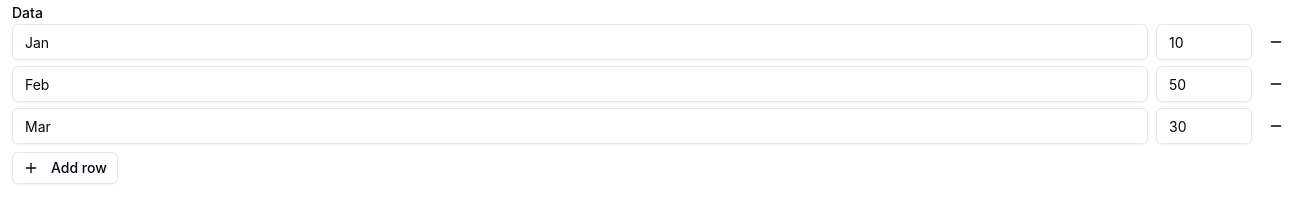
Test case: ParamEditor › numberList shows error for out-of-range value
# Find the value input for the first row and set it to 150 (out of range)
Replace the text in the number field named "Row 1 value" with "150": (1204, 42) x1=1156 y1=24 x2=1252 y2=60
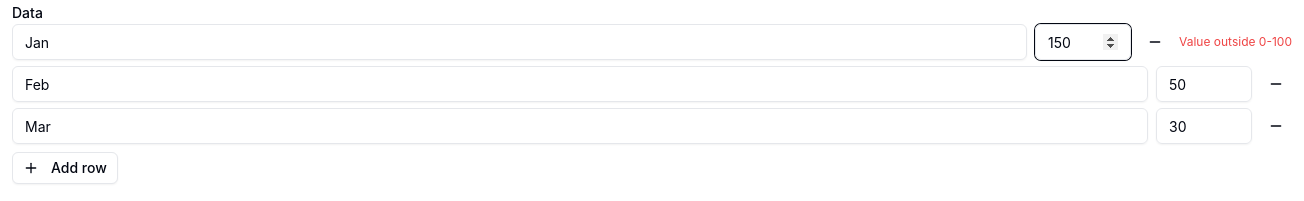
Expected: the text "Value outside 0-100" is shown, x1=1179 y1=34 x2=1292 y2=50
